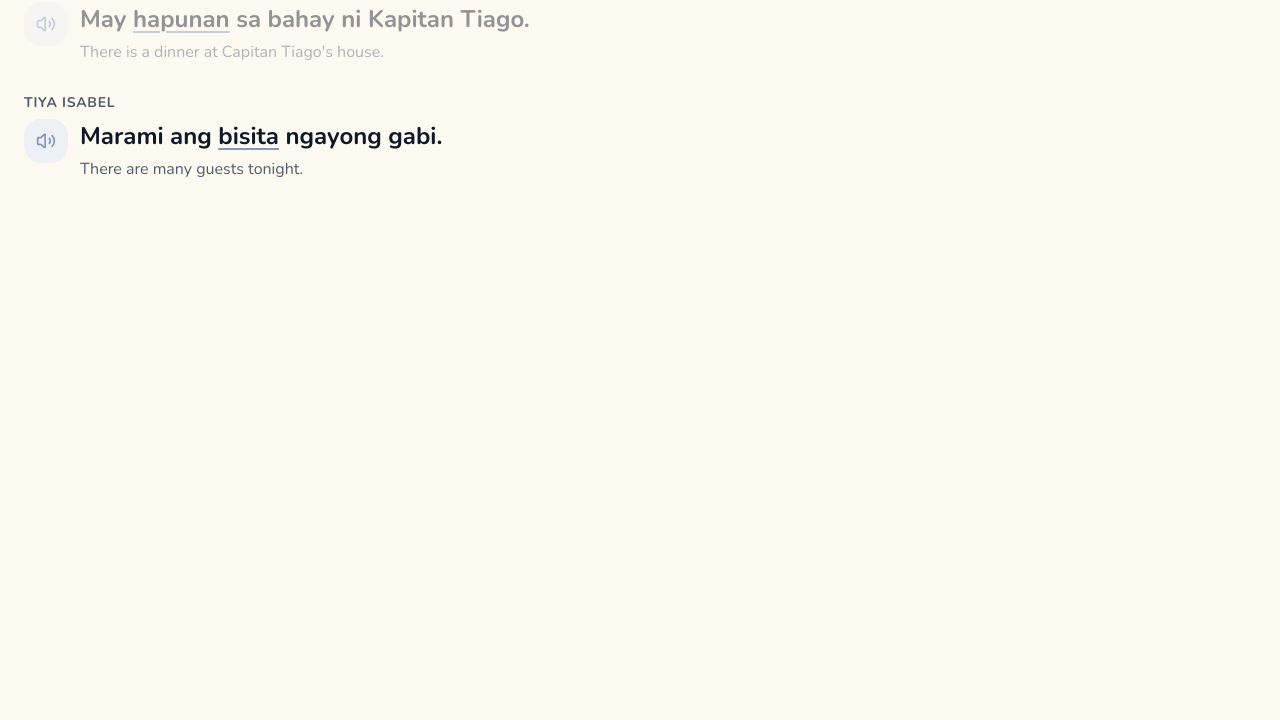
Test: gloss sheet › opens a gloss for a vocabulary word and not for other words
This screenshot has width=1280, height=720.
Click the button "bisita": (249, 136) 218,117 -> 279,156
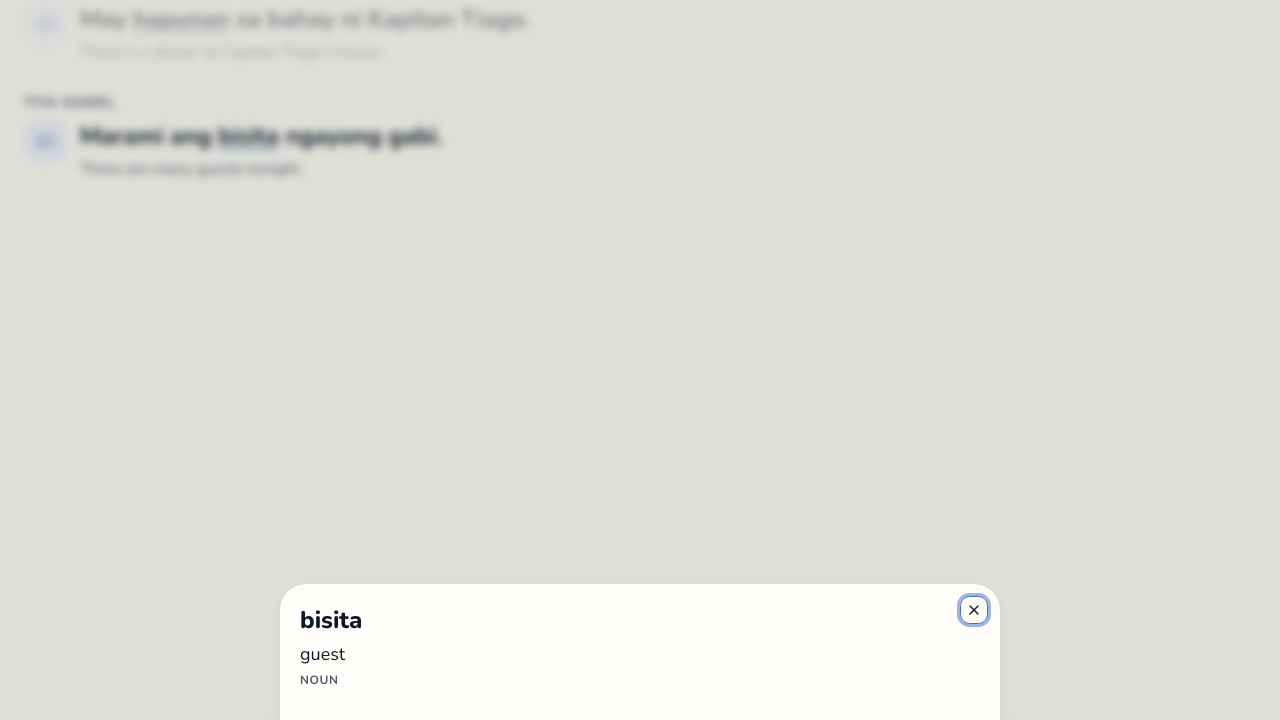
Check: the dialog shows "bisita", box 300,604 -> 362,636
Check: the dialog shows "guest", box 300,642 -> 345,666
Check: the dialog shows "noun", box 300,672 -> 339,688
